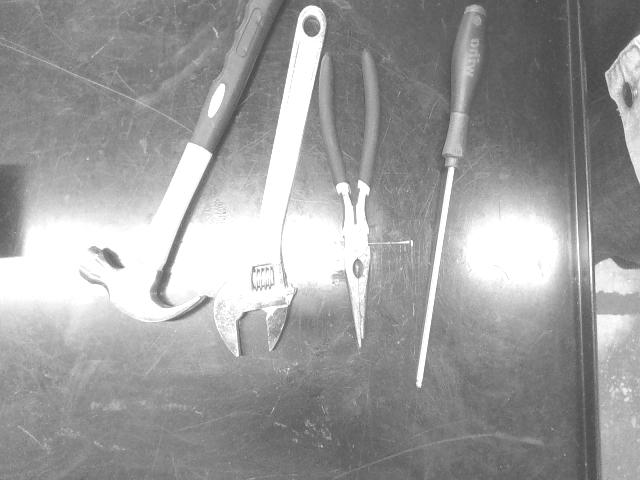Adjustable spanner: (214, 7, 326, 356)
Hammer: (79, 0, 281, 322)
Needle-nose pliers: (319, 48, 380, 346)
Screwdriver: (416, 5, 486, 387)
